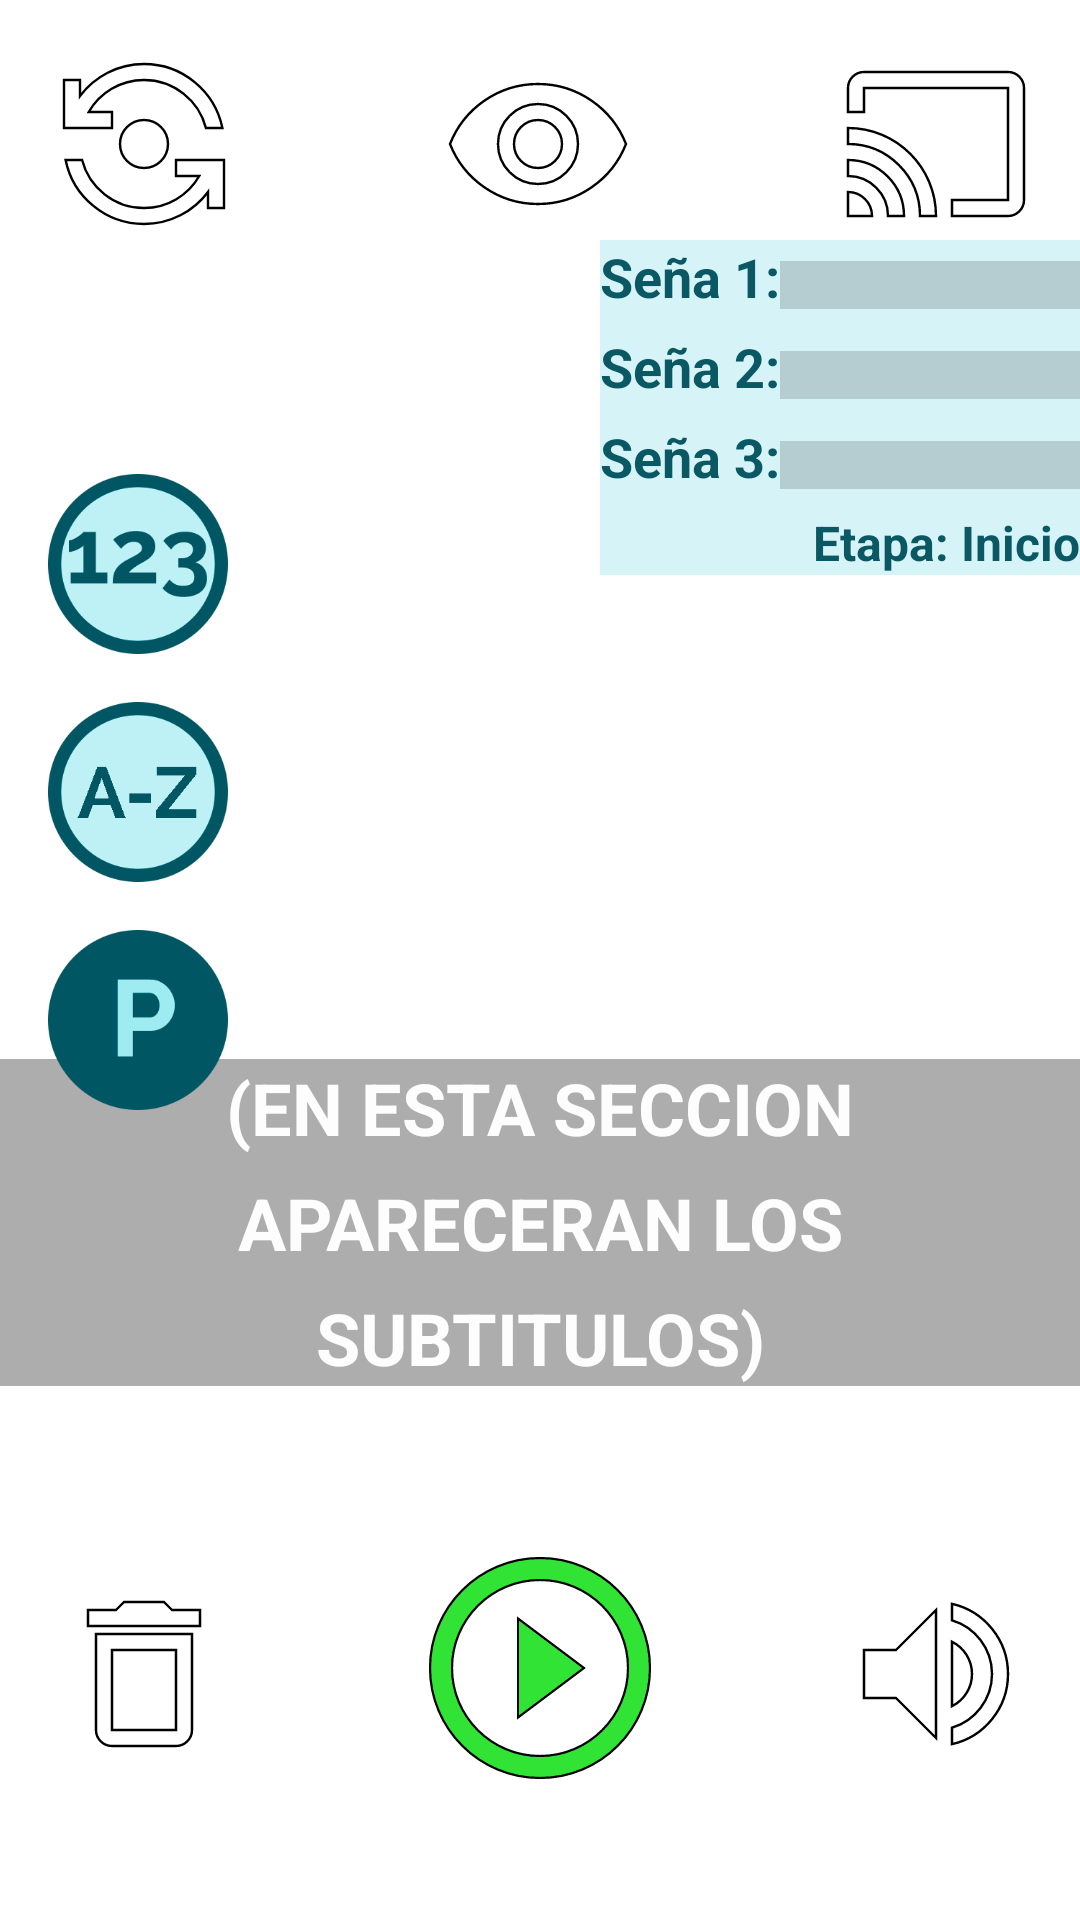

Named icons in this screenshot (1080x1920) and their bounding boxes, Rect(x1, y1, x2, y2):
cast: Rect(846, 70, 1026, 218)
delete: Rect(86, 1600, 202, 1748)
flip camera android: Rect(62, 62, 226, 226)
letters not: Rect(48, 702, 228, 882)
numbers not: Rect(48, 474, 228, 654)
play circle: Rect(429, 1557, 651, 1779)
visibility: Rect(448, 82, 628, 206)
volume up: Rect(862, 1602, 1010, 1746)
